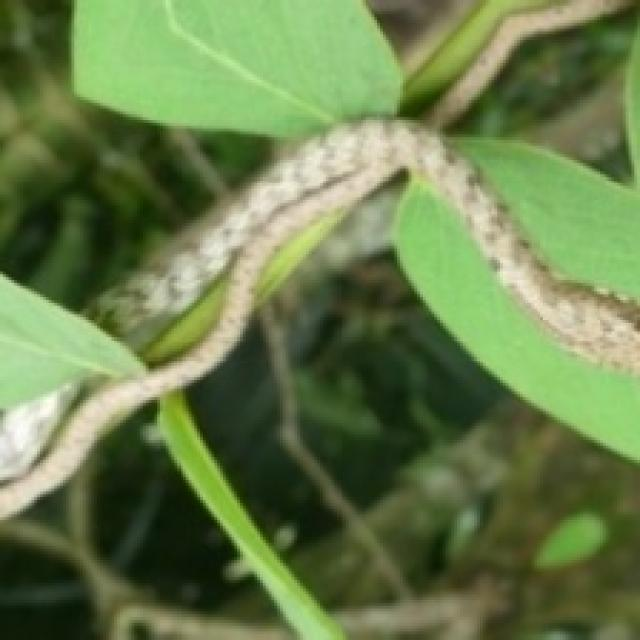philippine whip snake: (0, 120, 640, 518)
